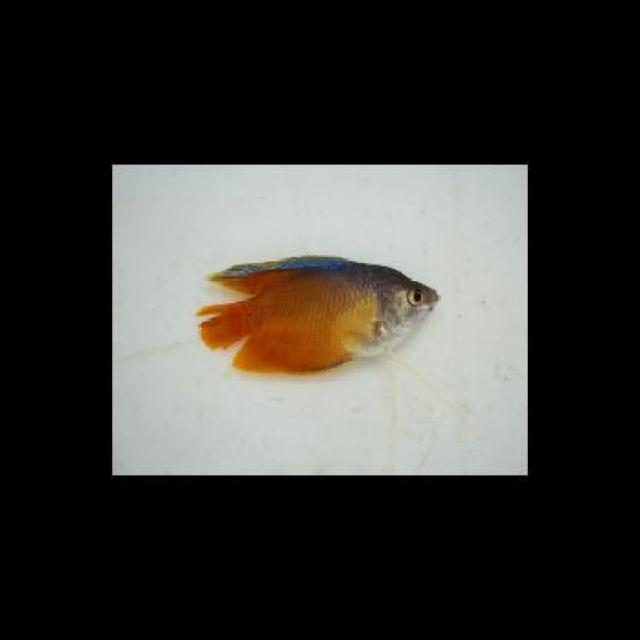Gourami: (192, 250, 446, 378)
